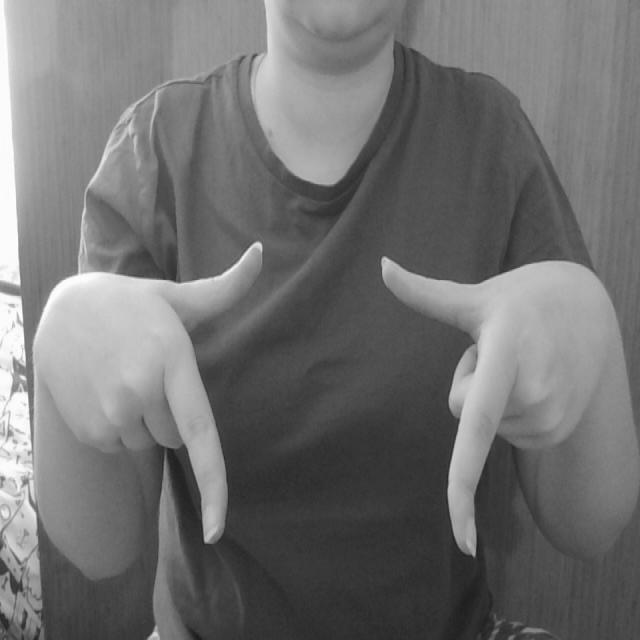Nerede: (157, 239, 521, 564)
